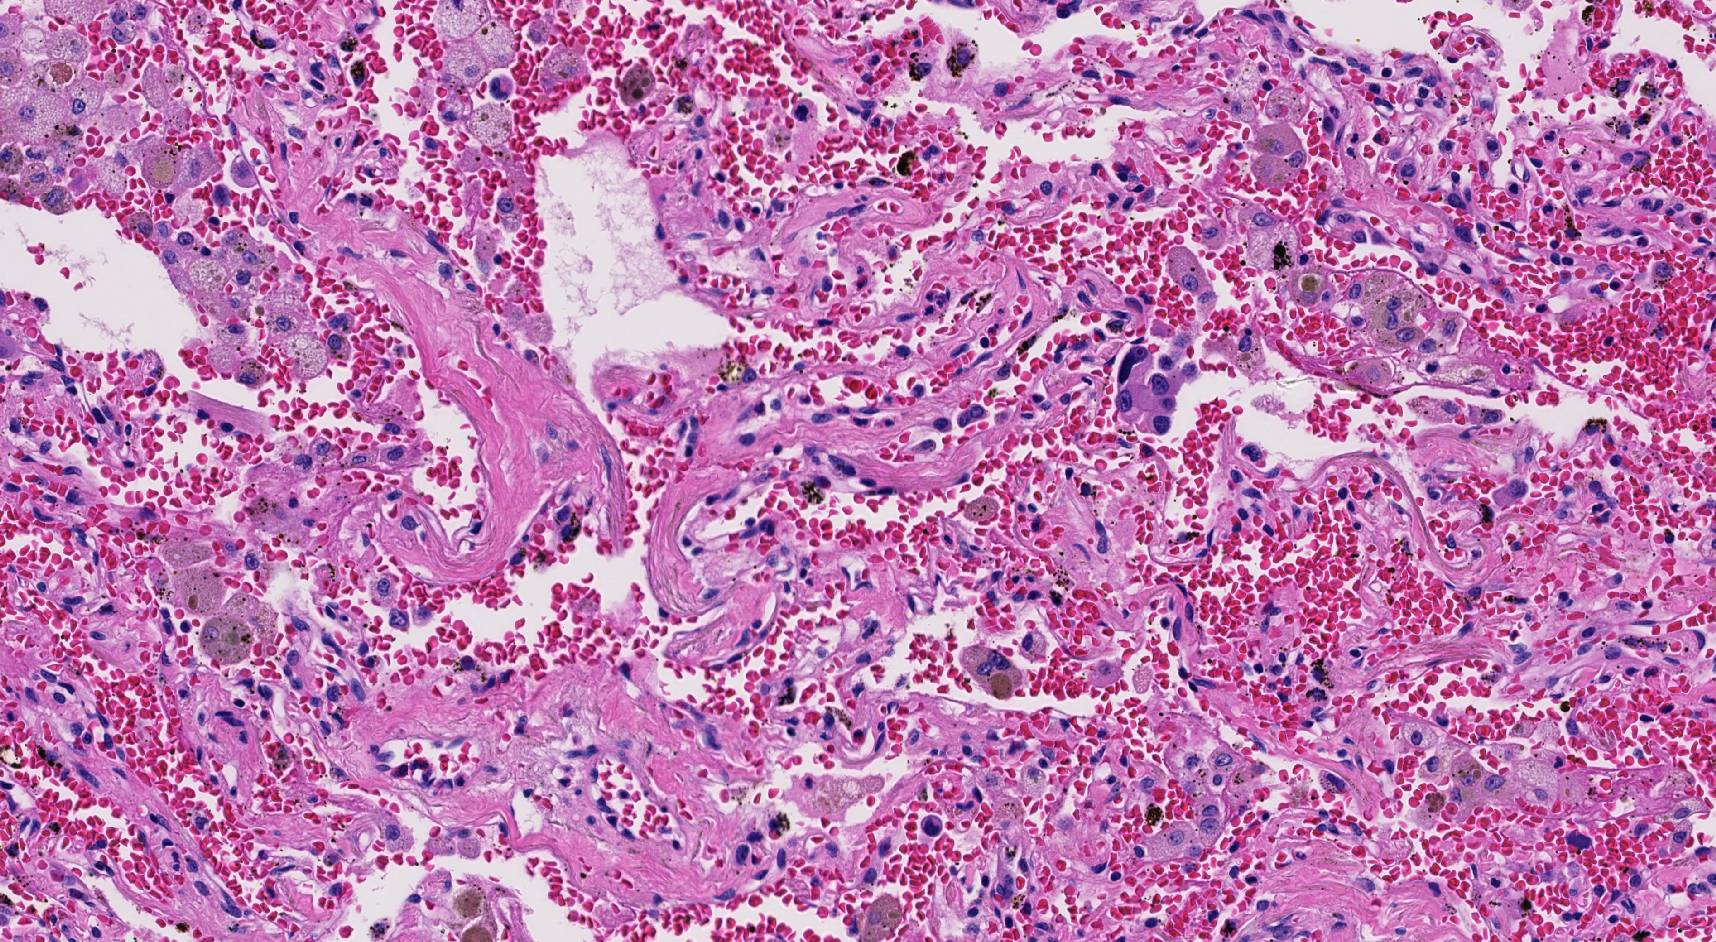stas: (1114, 346, 1183, 432)
